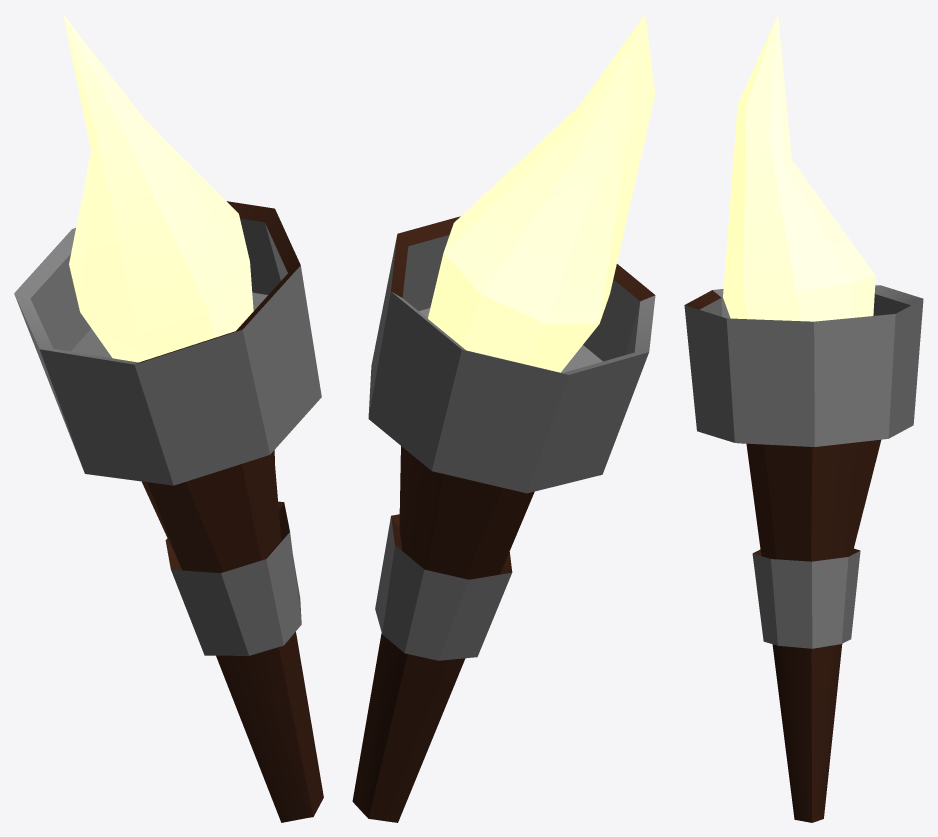
Rendered from torch.fbx.
3 views of the same model, side by side, from view 1: azimuth 30°, elevation 25°; view 2: azimuth 150°, elevation 25°; view 3: azimuth 270°, elevation 25° (orthographic). The views are drawn at different scales.
Visible parts, largest first — view 1: torch.003; view 2: torch.003; view 3: torch.003.
Part boxes in pixels (box(x1,y1,x2,y2)): torch.003: box(14, 14, 323, 822); torch.003: box(352, 14, 655, 822); torch.003: box(684, 14, 923, 822).
Size of the model in its own units: 57.65 by 164 by 50.19.
